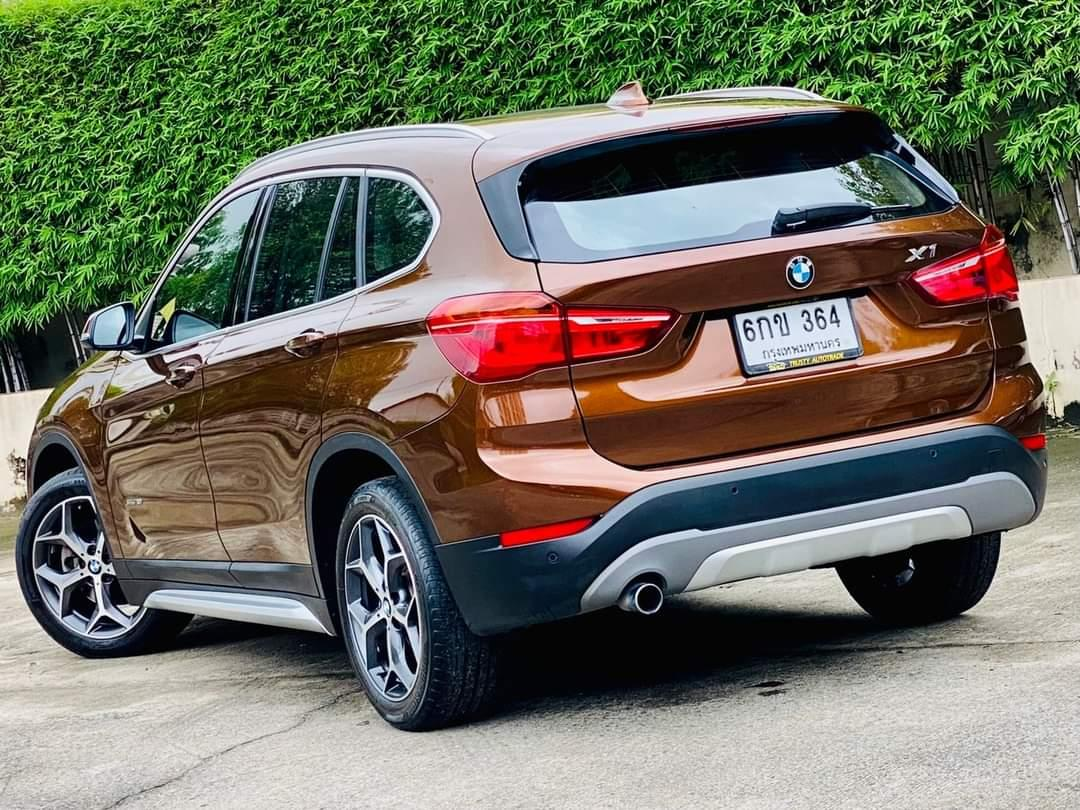license-plate: (717, 292, 866, 380)
